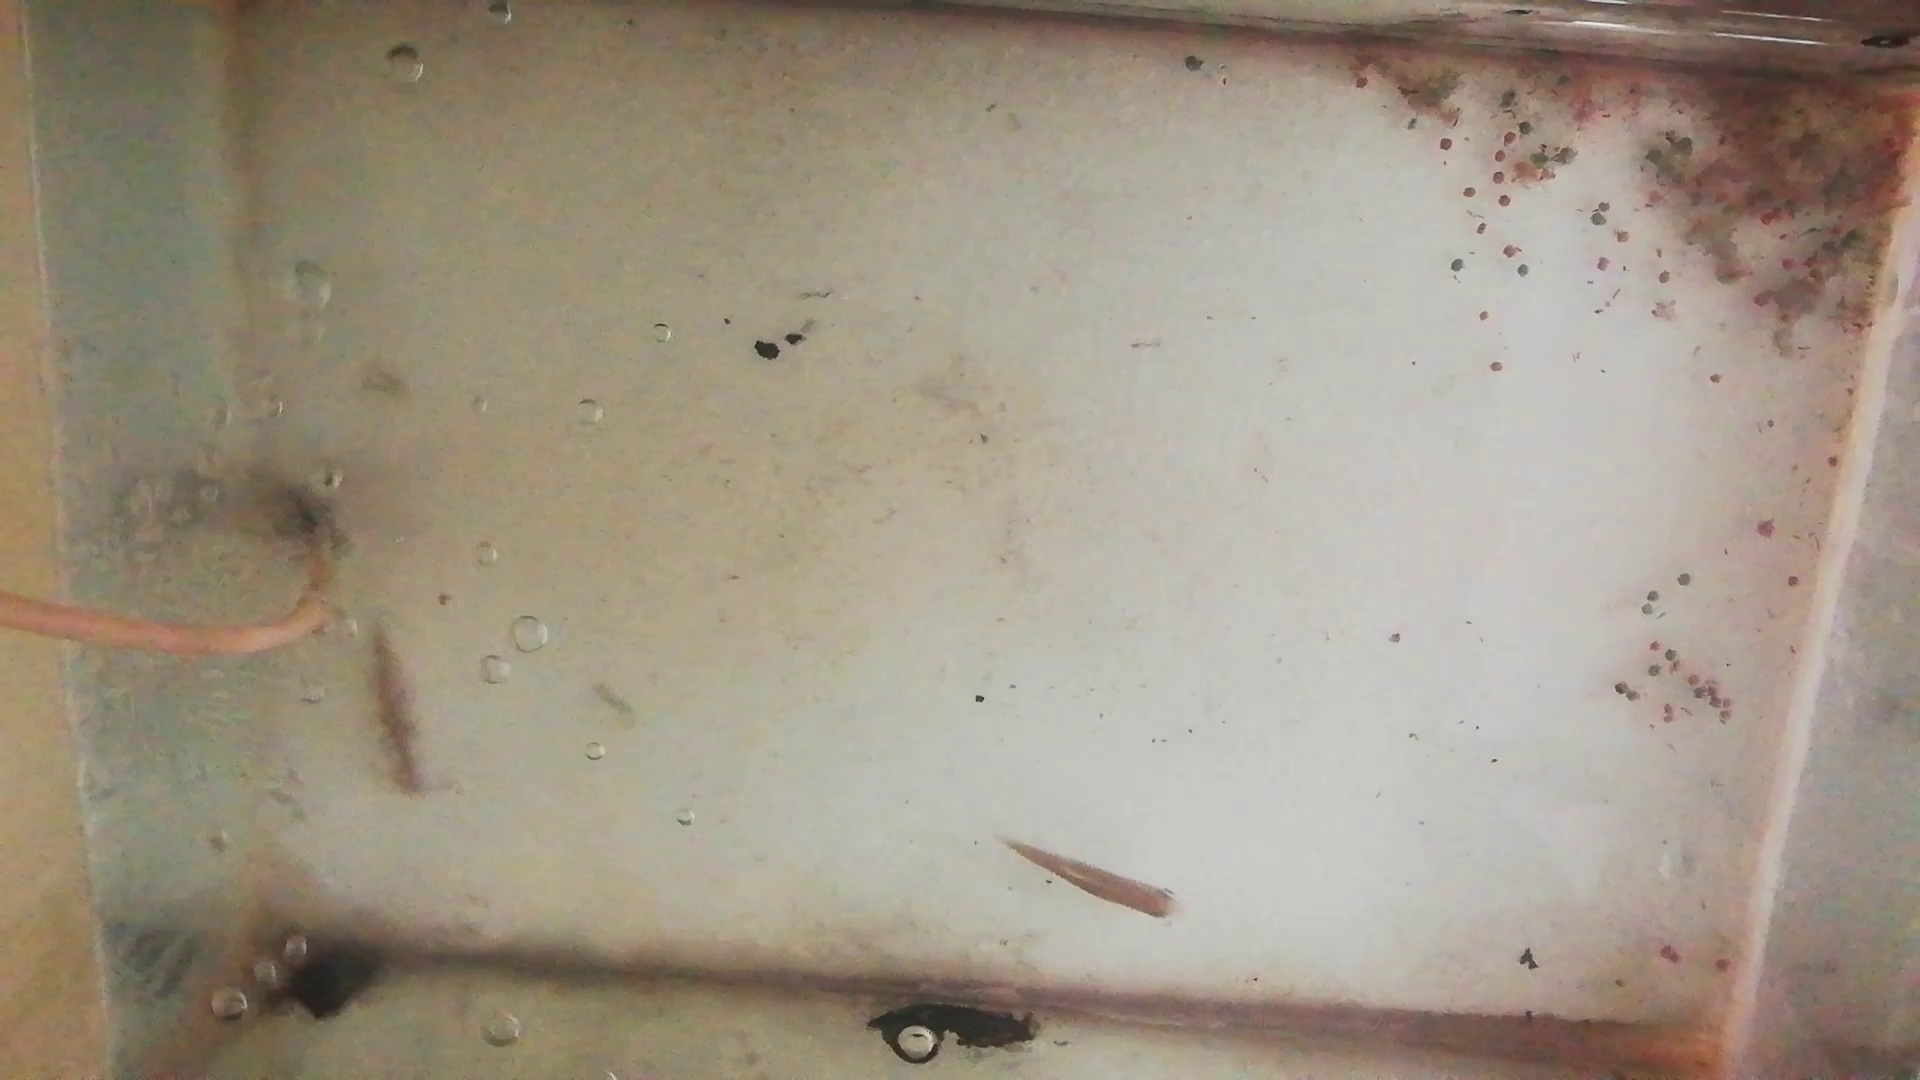fish: (992, 836, 1180, 920), (357, 611, 434, 804)
